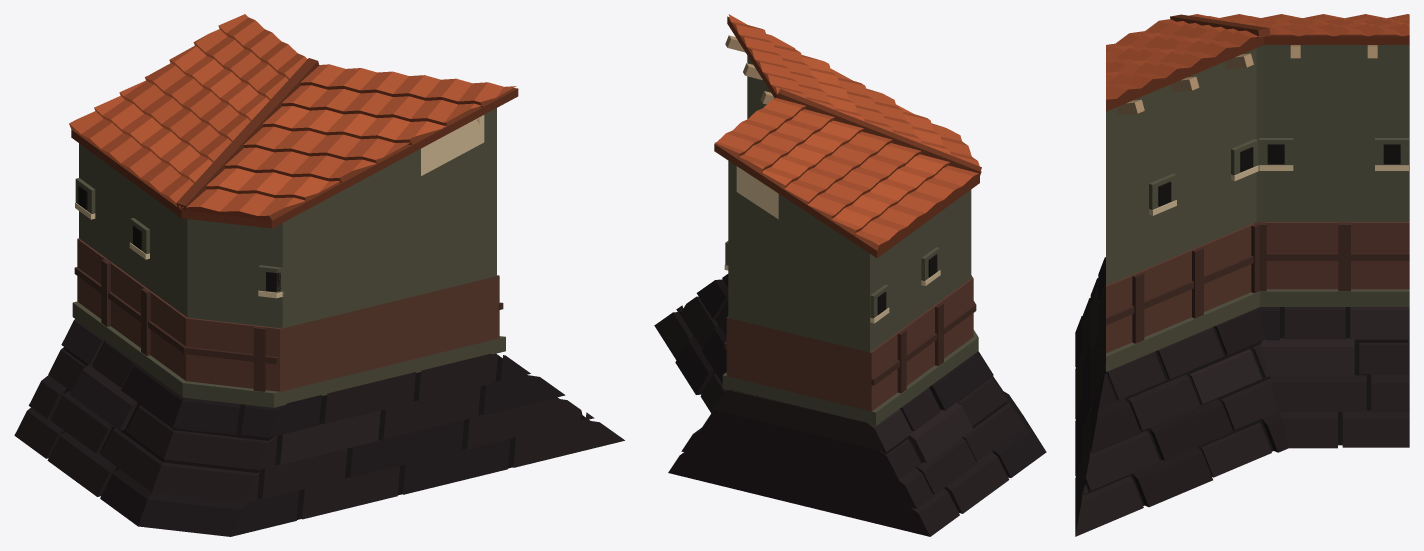
The model's file is VerJoint07.glb.
3 renders of one model, left to right at view 1: azimuth 30°, elevation 25°; view 2: azimuth 150°, elevation 25°; view 3: azimuth 270°, elevation 25°, orthographic. The views are drawn at different scales.
Visible parts, largest first — view 1: VerJoint07_mortar; view 2: VerJoint07_mortar; view 3: VerJoint07_mortar.
Part boxes in pixels (x1,y1,x2,y2): VerJoint07_mortar: [14, 14, 624, 536]; VerJoint07_mortar: [654, 14, 1046, 536]; VerJoint07_mortar: [1075, 14, 1409, 536].
Bounding box in the file's own units: 7.2 × 5.61 × 4.34.
